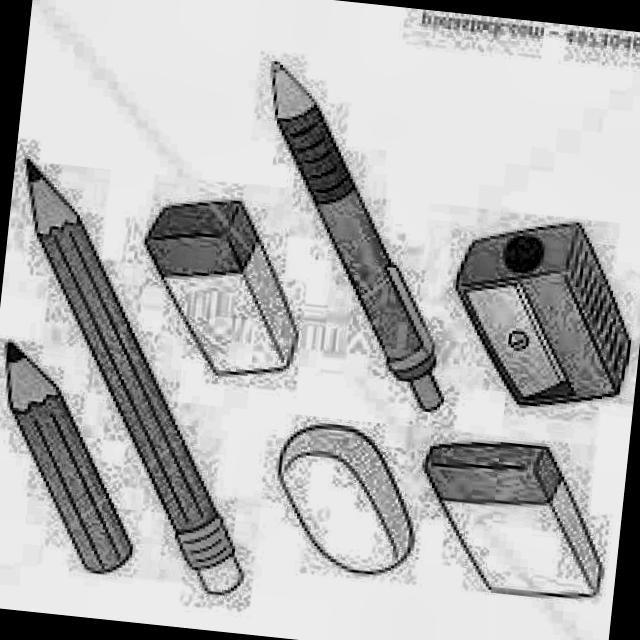Pen: (182, 38, 494, 420)
